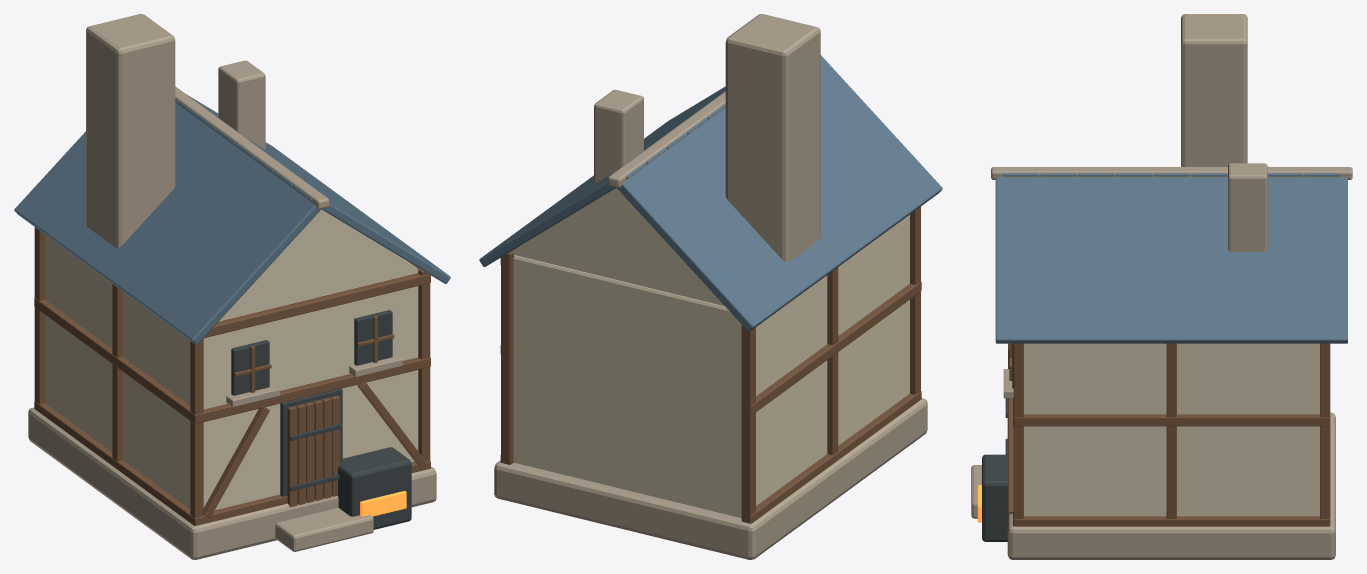
Rendered from forge_house.glb.
3 views of the same model, side by side, from view 1: azimuth 30°, elevation 25°; view 2: azimuth 150°, elevation 25°; view 3: azimuth 270°, elevation 25° (orthographic). The views are drawn at different scales.
Visible parts, largest first — view 1: SceneryRuntime; view 2: SceneryRuntime; view 3: SceneryRuntime.
Part boxes in pixels (<box>): SceneryRuntime: <box>14,14,450,559</box>; SceneryRuntime: <box>479,14,942,559</box>; SceneryRuntime: <box>971,14,1352,559</box>.
Bounding box in the file's own units: 4.84 × 7.95 × 6.27.
